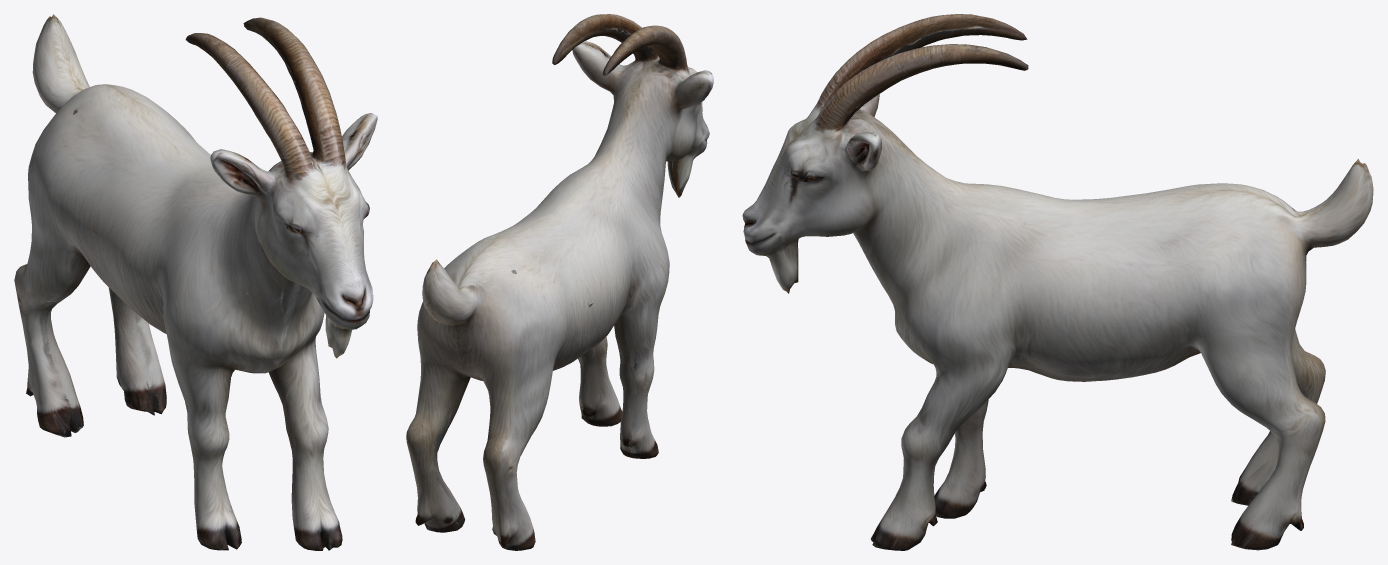
File: cabra_de_verdade.glb
3 views of the same model, side by side, from view 1: azimuth 30°, elevation 25°; view 2: azimuth 150°, elevation 25°; view 3: azimuth 270°, elevation 25° (orthographic). The views are drawn at different scales.
Bounding box in the file's own units: 0.6065 × 1.74 × 2.
Materials: 1 (1 with a texture image).
